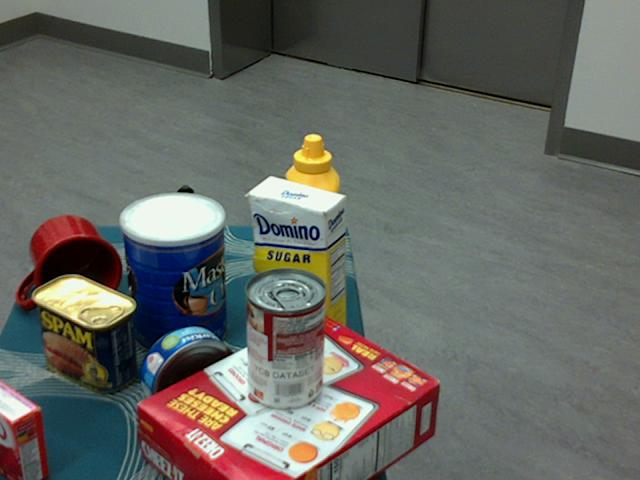cracker_box: (137, 312, 440, 479)
gelatin_box: (0, 378, 48, 479)
large_marker: (177, 185, 197, 281)
master_chef_can: (118, 193, 226, 359)
mug: (18, 215, 121, 313)
mustard_bottle: (283, 133, 337, 311)
potted_meat_can: (31, 273, 136, 392)
sugar_box: (248, 175, 346, 361)
tomato_soup_can: (244, 269, 325, 411)
tuna_fish_can: (140, 326, 237, 423)
